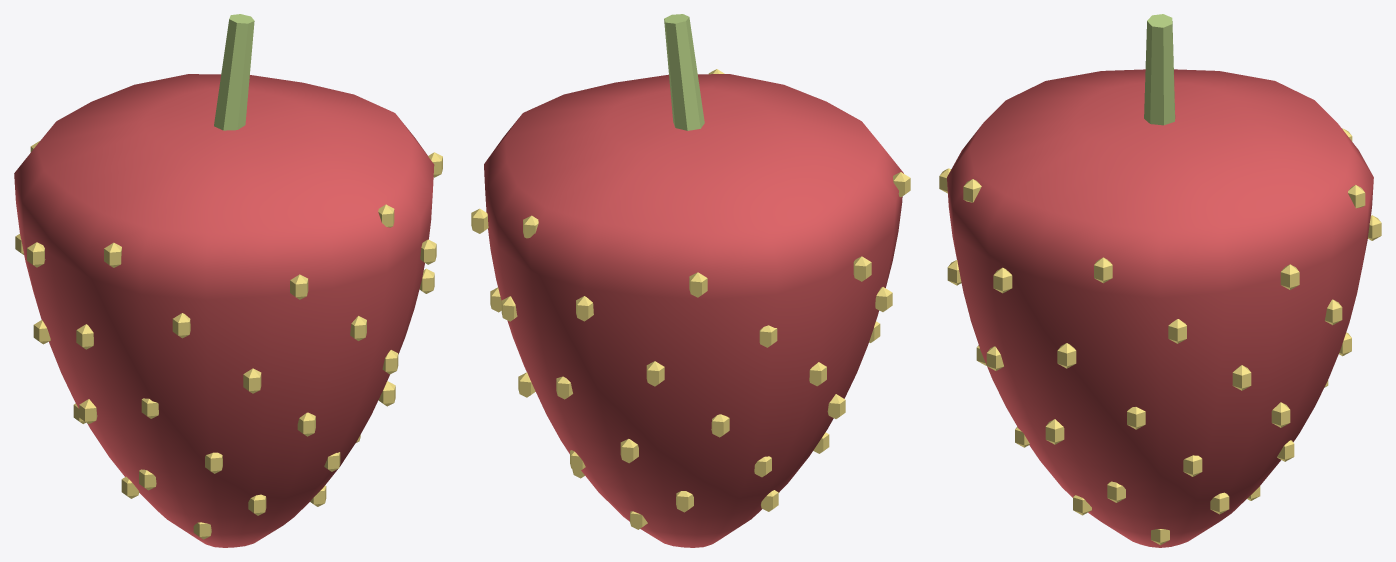
The model's file is fresh-produce-and-groceries-strawberry-8e9906ff__24322.glb.
3 views of the same model, side by side, from view 1: azimuth 30°, elevation 25°; view 2: azimuth 150°, elevation 25°; view 3: azimuth 270°, elevation 25° (orthographic).
Parts seen in each view (by area): view 1: strawberry; view 2: strawberry; view 3: strawberry.
Part boxes in pixels (<box>): strawberry: <box>14,14,442,547</box>; strawberry: <box>471,14,910,547</box>; strawberry: <box>939,14,1381,547</box>.
Bounding box in the file's own units: 0.0422 × 0.0552 × 0.0425.
